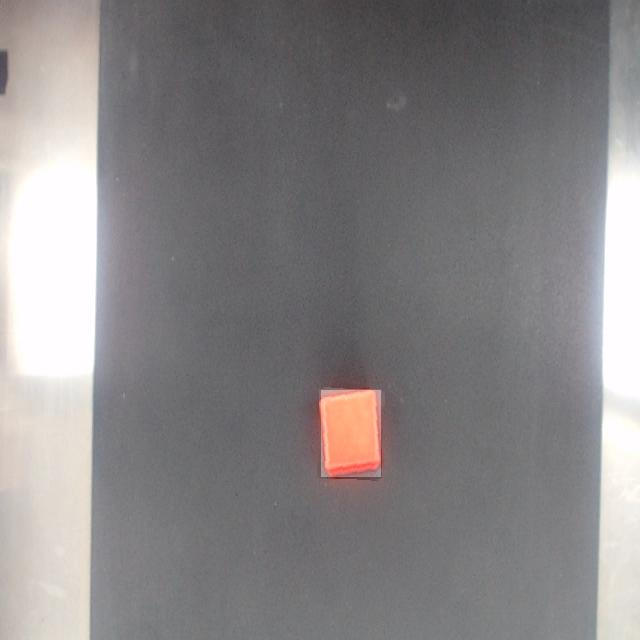Rojo: (321, 391, 381, 477)
